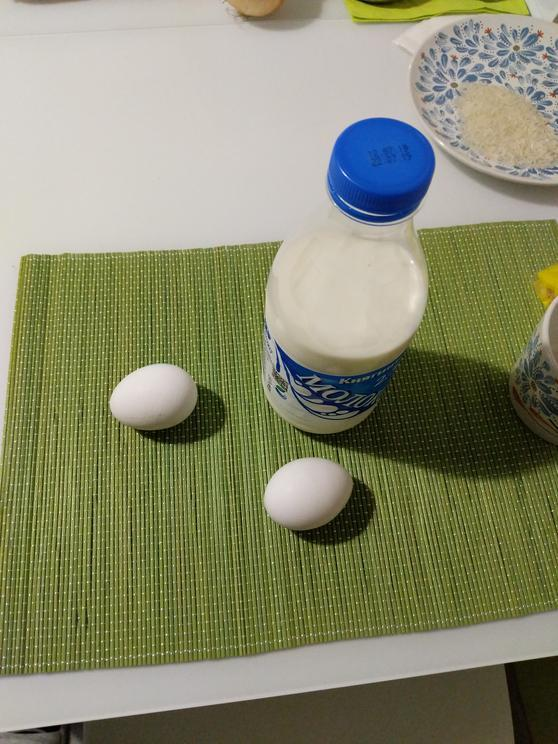egg: (256, 451, 362, 539), (101, 351, 204, 438)
milk: (256, 107, 440, 439)
